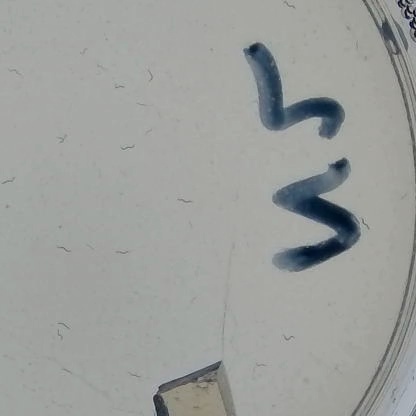worm: (5, 65, 25, 83), (52, 243, 77, 255), (115, 141, 139, 151), (0, 177, 23, 187), (253, 360, 272, 372), (360, 216, 374, 232), (280, 332, 300, 343), (95, 61, 113, 73), (175, 196, 196, 206), (144, 69, 159, 83), (83, 238, 97, 253), (280, 0, 299, 11), (57, 366, 76, 377), (127, 368, 143, 381), (113, 247, 135, 256), (53, 132, 69, 144), (57, 317, 71, 330), (141, 127, 158, 137), (48, 329, 69, 337), (114, 81, 128, 93), (80, 47, 92, 61)
